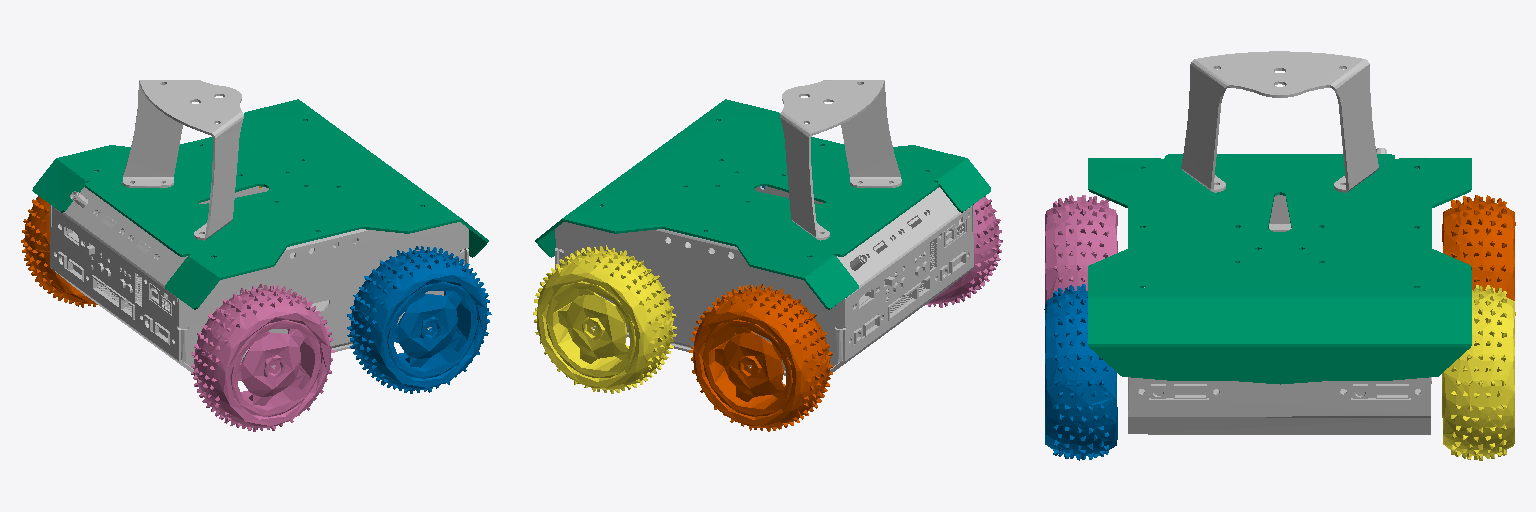
--- What the picture shows (computed from the rendered views, not written in the file) ---
3 views of the same robot in one strip: view 1: azimuth 30°, elevation 25°; view 2: azimuth 150°, elevation 25°; view 3: azimuth 270°, elevation 25° (orthographic).
Robot: rosbot — 15 links, 14 joints (4 continuous, 10 fixed); root link dummy; default pose: all joints at 0.
Links seen in each view (by area): view 1: base_link, top, front_right_wheel, rear_right_wheel, rear_left_wheel; view 2: top, base_link, rear_left_wheel, front_left_wheel, rear_right_wheel; view 3: top, base_link, front_left_wheel, front_right_wheel, rear_right_wheel, rear_left_wheel.
Boxes of the visible links, x1,y1,x2,y2 form: base_link: [50, 80, 468, 372]; top: [32, 99, 488, 309]; front_right_wheel: [347, 246, 491, 393]; rear_right_wheel: [191, 284, 334, 431]; rear_left_wheel: [21, 196, 97, 307]; top: [535, 99, 990, 309]; base_link: [555, 80, 973, 375]; rear_left_wheel: [689, 284, 832, 431]; front_left_wheel: [533, 245, 676, 393]; rear_right_wheel: [926, 196, 1002, 307]; top: [1088, 154, 1471, 384]; base_link: [1128, 51, 1431, 434]; front_left_wheel: [1442, 285, 1515, 460]; front_right_wheel: [1044, 284, 1117, 460]; rear_right_wheel: [1045, 195, 1117, 303]; rear_left_wheel: [1442, 195, 1515, 300].
Bounding box of the posed robot: 0.2001 × 0.2332 × 0.1655 m (x, y, z).
7 mesh visuals loaded from 5 distinct referenced files (4 Collada DAE); not drawn: 1 (reference not matched to a file when rendering).

The robot description file, URDF, robot "rosbot":
<?xml version="1.0" ?>
<!-- =================================================================================== -->
<!-- |    This document was autogenerated by xacro from src/rosbot_description/urdf/rosbot.xacro | -->
<!-- |    EDITING THIS FILE BY HAND IS NOT RECOMMENDED                                 | -->
<!-- =================================================================================== -->
<robot name="rosbot">
  <gazebo>
    <plugin name='skid_steer_drive' filename='libgazebo_ros_diff_drive.so'>
      <ros>
      </ros>
      <update_rate>10</update_rate>
      <num_wheel_pairs>2</num_wheel_pairs>
      <left_joint>front_left_wheel_hinge</left_joint>
      <right_joint>front_right_wheel_hinge</right_joint>
      <left_joint>rear_left_wheel_hinge</left_joint>
      <right_joint>rear_right_wheel_hinge</right_joint>
      <wheel_separation>0.2</wheel_separation>
      <wheel_separation>0.2</wheel_separation>
      <wheel_diameter>0.08</wheel_diameter>
      <wheel_diameter>0.08</wheel_diameter>
      <max_wheel_torque>1.5</max_wheel_torque>
      <max_wheel_acceleration>1.0</max_wheel_acceleration>
      <publish_odom>true</publish_odom>
      <publish_odom_tf>true</publish_odom_tf>
      <publish_wheel_tf>true</publish_wheel_tf>
      <odometry_frame>odom</odometry_frame>
      <robot_base_frame>base_link</robot_base_frame>
    </plugin>
  </gazebo>

  <gazebo>
    <plugin name="joint_states" filename="libgazebo_ros_joint_state_publisher.so">
      <joint_name>front_left_wheel_hinge</joint_name>
      <joint_name>front_right_wheel_hinge</joint_name>

      <joint_name>rear_left_wheel_hinge</joint_name>
      <joint_name>rear_right_wheel_hinge</joint_name>
    </plugin>
  </gazebo>

  <gazebo reference="base_link">
    <material>Gazebo/White</material>
  </gazebo>
  <gazebo reference="top">
    <material>Gazebo/Red</material>
  </gazebo>
  <gazebo reference="laser">
    <material>Gazebo/Black</material>
  </gazebo>
  <gazebo reference="camera_link">
    <material>Gazebo/Black</material>
  </gazebo>
  <gazebo reference="front_left_wheel">
    <material>Gazebo/Black</material>
  </gazebo>
  <gazebo reference="front_right_wheel">
    <material>Gazebo/Black</material>
  </gazebo>
  <gazebo reference="rear_left_wheel">
    <material>Gazebo/Black</material>
  </gazebo>
  <gazebo reference="rear_right_wheel">
    <material>Gazebo/Black</material>
  </gazebo>
  <!-- astra -->
  <gazebo reference="camera_link">
    <sensor name="openni_camera_camera" type="depth">
      <always_on>1</always_on>
      <visualize>true</visualize>
      <camera>
        <horizontal_fov>1.047</horizontal_fov>
        <image>
          <width>640</width>
          <height>480</height>
          <format>R8G8B8</format>
        </image>
        <depth_camera>

        </depth_camera>
        <clip>
          <near>0.1</near>
          <far>100</far>
        </clip>
      </camera>
      <plugin filename="libgazebo_ros_openni_kinect.so" name="kinect_controller">
        <alwaysOn>true</alwaysOn>
        <updateRate>10.0</updateRate>
        <cameraName>camera</cameraName>
        <frameName>camera_depth_frame</frameName>
        <imageTopicName>rgb/image_raw</imageTopicName>
        <depthImageTopicName>depth/image_raw</depthImageTopicName>
        <pointCloudTopicName>depth/points</pointCloudTopicName>
        <cameraInfoTopicName>rgb/camera_info</cameraInfoTopicName>
        <depthImageCameraInfoTopicName>depth/camera_info</depthImageCameraInfoTopicName>
        <pointCloudCutoff>0.4</pointCloudCutoff>
        <hackBaseline>0.07</hackBaseline>
        <distortionK1>0.0</distortionK1>
        <distortionK2>0.0</distortionK2>
        <distortionK3>0.0</distortionK3>
        <distortionT1>0.0</distortionT1>
        <distortionT2>0.0</distortionT2>
        <CxPrime>0.0</CxPrime>
        <Cx>0.0</Cx>
        <Cy>0.0</Cy>
        <focalLength>0.0</focalLength>
      </plugin>
    </sensor>
  </gazebo>
  <!-- If you cant't use your GPU comment RpLidar using GPU and uncomment RpLidar using CPU 
    gazebo plugin. -->
  <!-- Noise parameters based on published spec for rplidar laser
    achieving "+-30mm" accuracy at range < 10m.  A mean of 0.0m and
    stddev of 0.01m will put 99.7% of samples within 0.03m of the true
    reading. -->
  <!-- RpLidar A2 using GPU -->
  <!--<gazebo reference="laser">
    <sensor type="gpu_ray" name="head_rplidar_sensor">
      <pose>0 0 0.5 0 0 0</pose>
      <visualize>false</visualize>
      <update_rate>40</update_rate>
      <ray>
        <scan>
          <horizontal>
            <samples>720</samples>
            <resolution>1</resolution>
            <min_angle>-3.14159265</min_angle>
            <max_angle>3.14159265</max_angle>
          </horizontal>
        </scan>
        <range>
          <min>0.2</min>
          <max>12.0</max>
          <resolution>0.01</resolution>
        </range>
        <noise>
          <type>gaussian</type>
          <mean>0.0</mean>
          <stddev>0.01</stddev>
        </noise>
      </ray>
      <plugin name="gazebo_ros_head_rplidar_controller" filename="libgazebo_ros_gpu_laser.so">
        <topicName>scan</topicName>
        <frameName>laser</frameName>
      </plugin>
    </sensor>
  </gazebo>-->
  <!-- RpLidar A3 using GPU -->
  <!-- <gazebo reference="laser">
    <sensor type="gpu_ray" name="head_rplidar_sensor">
      <pose>0 0 0.06 0 0 0</pose>
      <visualize>false</visualize>
      <update_rate>40</update_rate>
      <ray>
        <scan>
          <horizontal>
            <samples>720</samples>
            <resolution>1</resolution>
            <min_angle>-3.14159265</min_angle>
            <max_angle>3.14159265</max_angle>
          </horizontal>
        </scan>
        <range>
          <min>0.2</min>
          <max>25.0</max>
          <resolution>0.01</resolution>
        </range>
        <noise>
          <type>gaussian</type>
          <mean>0.0</mean>
          <stddev>0.01</stddev>
        </noise>
      </ray>
      <plugin name="gazebo_ros_head_rplidar_controller" filename="libgazebo_ros_gpu_laser.so">
        <topicName>scan</topicName>
        <frameName>laser</frameName>
      </plugin>
    </sensor>
  </gazebo> -->
  <!-- RpLidar A2 using CPU -->
  <gazebo reference="laser">
    <sensor name="head_rplidar_sensor" type="ray">
      <pose>0 0 0.06 0 0 0</pose>
      <visualize>false</visualize>
      <update_rate>40</update_rate>
      <ray>
        <scan>
          <horizontal>
            <samples>720</samples>
            <resolution>1</resolution>
            <min_angle>-3.14159265</min_angle>
            <max_angle>3.14159265</max_angle>
          </horizontal>
        </scan>
        <range>
          <min>0.2</min>
          <max>12.0</max>
          <resolution>0.01</resolution>
        </range>
        <noise>
          <type>gaussian</type>
          <mean>0.0</mean>
          <stddev>0.01</stddev>
        </noise>
      </ray>
      <plugin filename="libgazebo_ros_laser.so" name="gazebo_ros_head_rplidar_controller">
        <topicName>scan</topicName>
        <frameName>laser</frameName>
      </plugin>
    </sensor>
  </gazebo>
  <!-- RpLidar A3 using CPU -->
  <!-- <gazebo reference="laser">
    <sensor type="ray" name="head_rplidar_sensor">
      <pose>0 0 0.06 0 0 0</pose>
      <visualize>false</visualize>
      <update_rate>40</update_rate>
      <ray>
        <scan>
          <horizontal>
            <samples>720</samples>
            <resolution>1</resolution>
            <min_angle>-3.14159265</min_angle>
            <max_angle>3.14159265</max_angle>
          </horizontal>
        </scan>
        <range>
          <min>0.2</min>
          <max>25.0</max>
          <resolution>0.01</resolution>
        </range>
        <noise>
          <type>gaussian</type>
          <mean>0.0</mean>
          <stddev>0.01</stddev>
        </noise>
      </ray>
      <plugin name="gazebo_ros_head_rplidar_controller" filename="libgazebo_ros_laser.so">
        <topicName>scan</topicName>
        <frameName>laser</frameName>
      </plugin>
    </sensor>
  </gazebo> -->
  <gazebo reference="top">
    <gravity>true</gravity>
    <sensor name="imu_sensor" type="imu">
      <always_on>true</always_on>
      <update_rate>10</update_rate>
      <visualize>true</visualize>
      <topic>imu</topic>
      <plugin filename="libgazebo_ros_imu_sensor.so" name="imu_plugin">
        <topicName>imu</topicName>
        <bodyName>imu_link</bodyName>
        <updateRateHZ>10.0</updateRateHZ>
        <gaussianNoise>0.0</gaussianNoise>
        <xyzOffset>0 0 0</xyzOffset>
        <rpyOffset>0 0 0</rpyOffset>
        <frameName>imu_link</frameName>
      </plugin>
      <pose>0 0 0 0 0 0</pose>
    </sensor>
  </gazebo>
  <gazebo reference="range_fl">
    <sensor name="range_fl" type="ray">
      <pose>0 0 0 0 0 0</pose>
      <update_rate>5</update_rate>
      <ray>
        <scan>
          <horizontal>
            <samples>5</samples>
            <resolution>1.0</resolution>
            <min_angle>-0.05</min_angle>
            <max_angle>0.05</max_angle>
          </horizontal>
          <vertical>
            <samples>5</samples>
            <resolution>1</resolution>
            <min_angle>-0.05</min_angle>
            <max_angle>0.05</max_angle>
          </vertical>
        </scan>
        <range>
          <min>0.01</min>
          <max>0.9</max>
          <resolution>0.01</resolution>
        </range>
      </ray>
      <plugin filename="libgazebo_ros_range.so" name="gazebo_ros_range">
        <gaussianNoise>0.005</gaussianNoise>
        <alwaysOn>true</alwaysOn>
        <updateRate>5</updateRate>
        <topicName>range/fl</topicName>
        <frameName>range_fl</frameName>
        <fov>0.1</fov>
        <radiation>ultrasound</radiation>
      </plugin>
    </sensor>
  </gazebo>
  <gazebo reference="range_fr">
    <sensor name="range_fr" type="ray">
      <pose>0 0 0 0 0 0</pose>
      <update_rate>5</update_rate>
      <ray>
        <scan>
          <horizontal>
            <samples>5</samples>
            <resolution>1.0</resolution>
            <min_angle>-0.05</min_angle>
            <max_angle>0.05</max_angle>
          </horizontal>
          <vertical>
            <samples>5</samples>
            <resolution>1</resolution>
            <min_angle>-0.05</min_angle>
            <max_angle>0.05</max_angle>
          </vertical>
        </scan>
        <range>
          <min>0.01</min>
          <max>0.9</max>
          <resolution>0.01</resolution>
        </range>
      </ray>
      <plugin filename="libgazebo_ros_range.so" name="gazebo_ros_range">
        <gaussianNoise>0.005</gaussianNoise>
        <alwaysOn>true</alwaysOn>
        <updateRate>5</updateRate>
        <topicName>range/fr</topicName>
        <frameName>range_fr</frameName>
        <fov>0.1</fov>
        <radiation>ultrasound</radiation>
      </plugin>
    </sensor>
  </gazebo>
  <gazebo reference="range_rl">
    <sensor name="range_rl" type="ray">
      <pose>0 0 0 0 0 0</pose>
      <update_rate>5</update_rate>
      <ray>
        <scan>
          <horizontal>
            <samples>5</samples>
            <resolution>1.0</resolution>
            <min_angle>-0.05</min_angle>
            <max_angle>0.05</max_angle>
          </horizontal>
          <vertical>
            <samples>5</samples>
            <resolution>1</resolution>
            <min_angle>-0.05</min_angle>
            <max_angle>0.05</max_angle>
          </vertical>
        </scan>
        <range>
          <min>0.01</min>
          <max>0.9</max>
          <resolution>0.01</resolution>
        </range>
      </ray>
      <plugin filename="libgazebo_ros_range.so" name="gazebo_ros_range">
        <gaussianNoise>0.005</gaussianNoise>
        <alwaysOn>true</alwaysOn>
        <updateRate>5</updateRate>
        <topicName>range/rl</topicName>
        <frameName>range_rl</frameName>
        <fov>0.1</fov>
        <radiation>ultrasound</radiation>
      </plugin>
    </sensor>
  </gazebo>
  <gazebo reference="range_rr">
    <sensor name="range_rr" type="ray">
      <pose>0 0 0 0 0 0</pose>
      <update_rate>5</update_rate>
      <ray>
        <scan>
          <horizontal>
            <samples>5</samples>
            <resolution>1.0</resolution>
            <min_angle>-0.05</min_angle>
            <max_angle>0.05</max_angle>
          </horizontal>
          <vertical>
            <samples>5</samples>
            <resolution>1</resolution>
            <min_angle>-0.05</min_angle>
            <max_angle>0.05</max_angle>
          </vertical>
        </scan>
        <range>
          <min>0.01</min>
          <max>0.9</max>
          <resolution>0.01</resolution>
        </range>
      </ray>
      <plugin filename="libgazebo_ros_range.so" name="gazebo_ros_range">
        <gaussianNoise>0.005</gaussianNoise>
        <alwaysOn>true</alwaysOn>
        <updateRate>5</updateRate>
        <topicName>range/rr</topicName>
        <frameName>range_rr</frameName>
        <fov>0.1</fov>
        <radiation>ultrasound</radiation>
      </plugin>
    </sensor>
  </gazebo>
  <material name="black">
    <color rgba="0.0 0.0 0.0 1.0"/>
  </material>
  <material name="blue">
    <color rgba="0.0 0.0 0.8 1.0"/>
  </material>
  <material name="green">
    <color rgba="0.0 0.8 0.0 1.0"/>
  </material>
  <material name="grey">
    <color rgba="0.2 0.2 0.2 1.0"/>
  </material>
  <material name="orange">
    <color rgba="1.0 0.4235294117647059 0.0392156862745098 1.0"/>
  </material>
  <material name="brown">
    <color rgba="0.8705882352941177 0.8117647058823529 0.7647058823529411 1.0"/>
  </material>
  <material name="red">
    <color rgba="0.8 0.0 0.0 1.0"/>
  </material>
  <material name="white">
    <color rgba="1.0 1.0 1.0 1.0"/>
  </material>
  <!--macro name="cylinder_inertia" params="m r h">
    <inertia  ixx="${m*(3*r*r+h*h)/12}" ixy = "0" ixz = "0"
      iyy="${m*(3*r*r+h*h)/12}" iyz = "0"
      izz="${m*r*r/2}"
    />
  </macro>

  <macro name="box_inertia" params="m x y z">
    <inertia  ixx="${m*(y*y+z*z)/12}" ixy = "0" ixz = "0"
      iyy="${m*(x*x+z*z)/12}" iyz = "0"
      izz="${m*(x*x+z*z)/12}"
    />
  </macro>

  <macro name="sphere_inertia" params="m r">
    <inertia  ixx="${2*m*r*r/5}" ixy = "0" ixz = "0"
      iyy="${2*m*r*r/5}" iyz = "0"
      izz="${2*m*r*r/5}"
    />
  </macro>







  <macro name="wheel" params="lr tY">

    <link name="${lr}_wheel">
      <collision>
        <origin xyz="0 0 0" rpy="0 ${PI/2} ${PI/2}" />
        <geometry>
          <cylinder length="${wheelWidth}" radius="${wheelRadius}"/>
        </geometry>
      </collision>

      <visual>
        <origin xyz="0 0 0" rpy="0 ${PI/2} ${PI/2}" />
        <geometry>
          <cylinder length="${wheelWidth}" radius="${wheelRadius}"/>
        </geometry>
        <material name="black"/>
      </visual>

      <inertial>
        <origin xyz="0 0 0" rpy="0 ${PI/2} ${PI/2}" />
        <mass value="${wheelMass}"/>
        <cylinder_inertia m="${wheelMass}" r="${wheelRadius}" h="${wheelWidth}"/>
      </inertial>
    </link>

    <gazebo reference="${lr}_wheel">
      <mu1 value="1.0"/>
      <mu2 value="1.0"/>
      <kp  value="10000000.0" />
      <kd  value="1.0" />
      <fdir1 value="1 0 0"/>
      <material>Gazebo/Black</material>
    </gazebo>


    <joint name="${lr}_wheel_hinge" type="continuous">
      <parent link="chassis"/>
      <child link="${lr}_wheel"/>
    <origin xyz="${-wheelPos+chassisLength/2} ${tY*wheelWidth/2+tY*chassisWidth/2} ${wheelRadius}" rpy="0 0 0" />
      <axis xyz="0 1 0" rpy="0 0 0" />
      <limit effort="10000" velocity="10000"/>
      <joint_properties damping="0.0" friction="0.0"/>
    </joint>


    <transmission name="${lr}_trans">
      <type>transmission_interface/SimpleTransmission</type>
      <joint name="${lr}_wheel_hinge">
        <hardwareInterface>EffortJointInterface</hardwareInterface>
      </joint>
      <actuator name="${lr}Motor">
        <hardwareInterface>EffortJointInterface</hardwareInterface>
        <mechanicalReduction>10</mechanicalReduction>
      </actuator>
    </transmission>

  </macro-->
  <link name="dummy"/>
  <joint name="dummy_joint" type="fixed">
    <parent link="dummy"/>
    <child link="base_link"/>
  </joint>
  <link name="base_link">
    <pose>0 0 0.1 0 0 0</pose>
    <inertial>
      <mass value="5"/>
      <origin rpy=" 0 0 0" xyz="0 0 0.04"/>
      <inertia ixx="0.01" ixy="0.01" ixz="0" iyy="0.01" iyz="0.01" izz="0.01"/>
    </inertial>
    <collision name="collision">
      <origin rpy="0 0 0" xyz="0 0 0.02"/>
      <geometry>
        <box size="0.20 0.15 0.04"/>
      </geometry>
    </collision>
    <visual name="base_link_visual">
      <origin rpy=" 1.5707 0 1.5707" xyz="0 0 -0.02"/>
      <geometry>
        <mesh filename="package://rosbot_description/meshes/box.dae" scale="0.001 0.001 0.001"/>
      </geometry>
    </visual>
  </link>
  <joint name="top_joint" type="fixed">
    <axis xyz="0 1 0"/>
    <origin rpy="0 0 0" xyz="0 0 0"/>
    <parent link="base_link"/>
    <child link="top"/>
  </joint>
  <link name="top">
    <pose>0 0 0 0 0 0</pose>
    <inertial>
      <mass value="0.01"/>
      <origin rpy=" 0 0 0" xyz="0 0 0.055"/>
      <inertia ixx="0.0" ixy="0" ixz="0" iyy="0.0" iyz="0" izz="0.0"/>
    </inertial>
    <visual name="top">
      <origin rpy=" 1.5707 0 1.5707" xyz="0 0 0.055"/>
      <geometry>
        <mesh filename="package://rosbot_description/meshes/upper.dae" scale="0.001 0.001 0.001"/>
      </geometry>
    </visual>
  </link>
  <link name="front_left_wheel">
    <collision name="collision">
      <origin rpy="0 0 1.5707" xyz="0 0 0"/>
      <geometry>
        <mesh filename="package://rosbot_description/meshes/wheel-v2.stl" scale="0.001 0.001 0.001"/>
      </geometry>
      <surface>
        <friction>
          <ode>
            <mu>10</mu>
            <mu2>10</mu2>
          </ode>
        </friction>
      </surface>
    </collision>
    <visual name="front_left_wheel_visual">
      <origin rpy="0 0 1.5707" xyz="0 0 0"/>
      <geometry>
        <mesh filename="package://rosbot_description/meshes/wheel.dae" scale="0.001 0.001 0.001"/>
      </geometry>
    </visual>
    <inertial>
      <origin rpy="0 1.5707 1.5707" xyz="0 0 0"/>
      <mass value="0.5"/>
      <inertia ixx="0.001" ixy="0.0" ixz="0.0" iyy="0.001" iyz="0.0" izz="0.001"/>
    </inertial>
  </link>
  <link name="front_right_wheel">
    <collision name="collision">
      <origin rpy="0 0 -1.5707" xyz="0 0 0"/>
      <geometry>
        <mesh filename="package://rosbot_description/meshes/wheel-v2.stl" scale="0.001 0.001 0.001"/>
      </geometry>
      <surface>
        <friction>
          <ode>
            <mu>10</mu>
            <mu2>10</mu2>
          </ode>
        </friction>
      </surface>
    </collision>
    <visual name="front_right_wheel_visual">
      <origin rpy="0 0 -1.5707" xyz="0 0 0"/>
      <geometry>
        <mesh filename="package://rosbot_description/meshes/wheel.dae" scale="0.001 0.001 0.001"/>
      </geometry>
    </visual>
    <inertial>
      <origin rpy="0 1.5707 1.5707" xyz="0 0 0"/>
      <mass value="0.5"/>
      <inertia ixx="0.001" ixy="0.0" ixz="0.0" iyy="0.001" iyz="0.0" izz="0.001"/>
    </inertial>
  </link>
  <link name="rear_left_wheel">
    <collision name="collision">
      <origin rpy="0 0 1.5707" xyz="0 0 0"/>
      <geometry>
        <mesh filename="package://rosbot_description/meshes/wheel-v2.stl" scale="0.001 0.001 0.001"/>
      </geometry>
      <surface>
        <friction>
          <ode>
            <mu>10</mu>
            <mu2>10</mu2>
          </ode>
        </friction>
      </surface>
    </collision>
    <visual name="rear_left_wheel_visual">
      <origin rpy="0 0 1.5707" xyz="0 0 0"/>
      <geometry>
        <mesh filename="package://rosbot_description/meshes/wheel.dae" scale="0.001 0.001 0.001"/>
      </geometry>
    </visual>
    <inertial>
      <origin rpy="0 1.5707 1.5707" xyz="0 0 0"/>
      <mass value="0.5"/>
      <inertia ixx="0.001" ixy="0.0" ixz="0.0" iyy="0.001" iyz="0.0" izz="0.001"/>
    </inertial>
  </link>
  <link name="rear_right_wheel">
    <collision name="collision">
      <origin rpy="0 0 -1.5707" xyz="0 0 0"/>
      <geometry>
        <mesh filename="package://rosbot_description/meshes/wheel-v2.stl" scale="0.001 0.001 0.001"/>
      </geometry>
      <surface>
        <friction>
          <ode>
            <mu>10</mu>
            <mu2>10</mu2>
          </ode>
        </friction>
      </surface>
    </collision>
    <visual name="rear_right_wheel_visual">
      <origin rpy="0 0 -1.5707" xyz="0 0 0"/>
      <geometry>
        <mesh filename="package://rosbot_description/meshes/wheel.dae" scale="0.001 0.001 0.001"/>
      </geometry>
    </visual>
    <inertial>
      <origin rpy="0 1.5707 1.5707" xyz="0 0 0"/>
      <mass value="0.5"/>
      <inertia ixx="0.001" ixy="0.0" ixz="0.0" iyy="0.001" iyz="0.0" izz="0.001"/>
    </inertial>
  </link>
  <joint name="front_left_wheel_hinge" type="continuous">
    <origin rpy="0 0 0" xyz="0.05 0.11 0"/>
    <child link="front_left_wheel"/>
    <parent link="base_link"/>
    <axis rpy="0 0 0" xyz="0 1 0"/>
    <limit effort="1" velocity="10"/>
    <joint_properties damping="5.0" friction="1.0"/>
  </joint>
  <transmission name="front_left_wheel_trans" type="SimpleTransmission">
    <type>transmission_interface/SimpleTransmission</type>
    <actuator name="front_left_wheel_motor">
      <mechanicalReduction>1</mechanicalReduction>
    </actuator>
    <joint name="front_left_wheel_hinge">
      <hardwareInterface>hardware_interface/EffortJointInterface</hardwareInterface>
    </joint>
  </transmission>
  <joint name="front_right_wheel_hinge" type="continuous">
    <origin rpy="0 0 0" xyz="0.05 -0.11 0"/>
    <child link="front_right_wheel"/>
    <parent link="base_link"/>
    <axis rpy="0 0 0" xyz="0 1 0"/>
    <limit effort="1" velocity="10"/>
    <joint_properties damping="5.0" friction="1.0"/>
  </joint>
  <transmission name="front_right_wheel_trans" type="SimpleTransmission">
    <type>transmission_interface/SimpleTransmission</type>
    <actuator name="front_right_wheel_motor">
      <mechanicalReduction>1</mechanicalReduction>
    </actuator>
    <joint name="front_right_wheel_hinge">
      <hardwareInterface>hardware_interface/EffortJointInterface</hardwareInterface>
    </joint>
  </transmission>
  <joint name="rear_left_wheel_hinge" type="continuous">
    <origin rpy="0 0 0" xyz="-0.055 0.11 0"/>
    <child link="rear_left_wheel"/>
    <parent link="base_link"/>
    <axis rpy="0 0 0" xyz="0 1 0"/>
    <limit effort="1" velocity="10"/>
    <joint_properties damping="5.0" friction="1.0"/>
  </joint>
  <transmission name="rear_left_wheel_trans" type="SimpleTransmission">
    <type>transmission_interface/SimpleTransmission</type>
    <actuator name="rear_left_wheel_motor">
      <mechanicalReduction>1</mechanicalReduction>
    </actuator>
    <joint name="rear_left_wheel_hinge">
      <hardwareInterface>hardware_interface/EffortJointInterface</hardwareInterface>
    </joint>
  </transmission>
  <joint name="rear_right_wheel_hinge" type="continuous">
    <origin rpy="0 0 0" xyz="-0.055 -0.11 0"/>
    <child link="rear_right_wheel"/>
    <parent link="base_link"/>
    <axis rpy="0 0 0" xyz="0 1 0"/>
    <limit effort="1" velocity="10"/>
    <joint_properties damping="5.0" friction="1.0"/>
  </joint>
  <transmission name="rear_right_wheel_trans" type="SimpleTransmission">
    <type>transmission_interface/SimpleTransmission</type>
    <actuator name="rear_right_wheel_motor">
      <mechanicalReduction>1</mechanicalReduction>
    </actuator>
    <joint name="rear_right_wheel_hinge">
      <hardwareInterface>hardware_interface/EffortJointInterface</hardwareInterface>
    </joint>
  </transmission>
  <!-- Orbbec Astra RGBD Camera -->
  <joint name="astra_joint" type="fixed">
    <axis xyz="0 0 0"/>
    <origin rpy="0 0 0" xyz="-0.03 0 0.18"/>
    <parent link="base_link"/>
    <child link="camera_link"/>
  </joint>
  <link name="camera_link">
    <collision>
      <origin rpy="0 0 0" xyz="0.02 0 0"/>
      <geometry>
        0
        
        <box size="0.001 0.001 0.001"/>
      </geometry>
    </collision>
    <visual>
      <origin rpy="1.5707 0 1.5707" xyz="-0.01 0 -0.03"/>
      <geometry>
        <mesh filename="package://rosbot_description/meshes/astra.dae" scale="0.001 0.001 0.001"/>
      </geometry>
    </visual>
    <inertial>
      <mass value="1e-5"/>
      <origin rpy="0 0 0" xyz="0 0 0"/>
      <inertia ixx="0" ixy="0" ixz="0" iyy="0" iyz="0" izz="0"/>
    </inertial>
  </link>
  <joint name="camera_optical_joint" type="fixed">
    <origin rpy="-1.5707963267948966 0 -1.5707963267948966" xyz="0 0 0"/>
    <parent link="camera_link"/>
    <child link="camera_rgb_frame"/>
  </joint>
  <link name="camera_rgb_frame">
  </link>
  <joint name="camera_depth_joint" type="fixed">
    <origin rpy="-1.5707963267948966 0 -1.5707963267948966" xyz="0 0 0"/>
    <parent link="camera_link"/>
    <child link="camera_depth_frame"/>
  </joint>
  <link name="camera_depth_frame">
  </link>
  <joint name="rplidar_joint" type="fixed">
    <axis xyz="0 1 0"/>
    <origin rpy="0 0 3.14" xyz="0.02 0 0.058"/>
    <parent link="base_link"/>
    <child link="laser"/>
  </joint>
  <!-- rplidar Laser -->
  <link name="laser">
    <collision>
      <origin rpy="1.5707 0 4.71" xyz="0 0 0"/>
      <geometry>
        <mesh filename="package://rosbot_description/meshes/rplidar.dae" scale="0.001 0.001 0.001"/>
      </geometry>
    </collision>
    <visual>
      <origin rpy="1.5707 0 4.71" xyz="0 0 0"/>
      <geometry>
        <mesh filename="package://rosbot_description/meshes/rplidar.dae" scale="0.001 0.001 0.001"/>
      </geometry>
    </visual>
    <inertial>
      <mass value="1e-5"/>
      <origin rpy="1.5707 0 4.71" xyz="0 0 0"/>
      <inertia ixx="0" ixy="0" ixz="0" iyy="0" iyz="0" izz="0"/>
    </inertial>
  </link>
  <joint name="range_fl_joint" type="fixed">
    <axis xyz="0 1 0"/>
    <origin rpy="0 0 0.13 " xyz="0.1 0.05 0.01"/>
    <parent link="base_link"/>
    <child link="range_fl"/>
  </joint>
  <link name="range_fl"/>
  <joint name="range_fr_joint" type="fixed">
    <axis xyz="0 1 0"/>
    <origin rpy="0 0 -0.13 " xyz="0.1 -0.05 0.01"/>
    <parent link="base_link"/>
    <child link="range_fr"/>
  </joint>
  <link name="range_fr"/>
  <joint name="range_rl_joint" type="fixed">
    <axis xyz="0 1 0"/>
    <origin rpy="0 0 3.01 " xyz="-0.1 0.05 0.01"/>
    <parent link="base_link"/>
    <child link="range_rl"/>
  </joint>
  <link name="range_rl"/>
  <joint name="range_rr_joint" type="fixed">
    <axis xyz="0 1 0"/>
    <origin rpy="0 0 3.27 " xyz="-0.1 -0.05 0.01"/>
    <parent link="base_link"/>
    <child link="range_rr"/>
  </joint>
  <link name="range_rr"/>
</robot>
